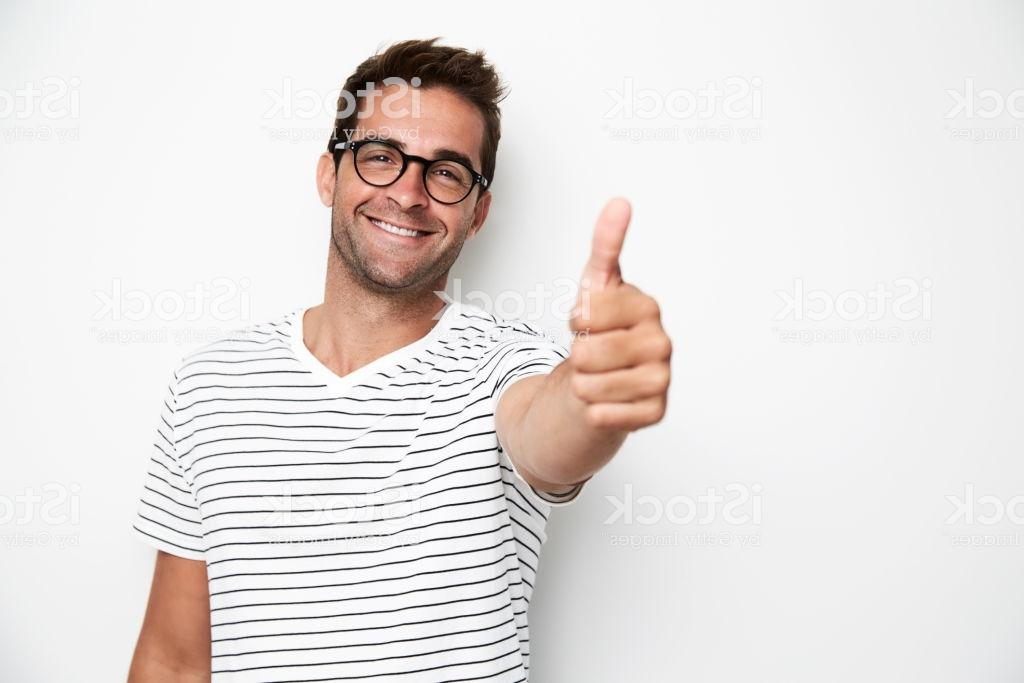thumbsup: (567, 194, 676, 436)
